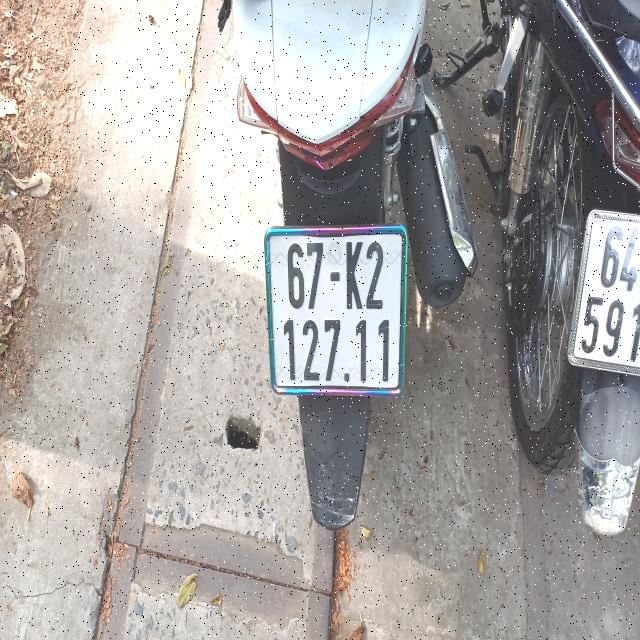1: (354, 317, 370, 387), (283, 318, 298, 385), (379, 318, 391, 384)
2: (364, 240, 384, 312), (301, 319, 321, 384)
6: (286, 242, 305, 309)
7: (305, 240, 327, 313), (324, 318, 341, 382)
K: (344, 240, 364, 310)
